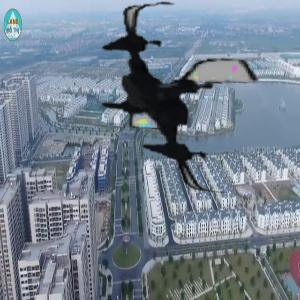drone: (78, 2, 268, 192)
